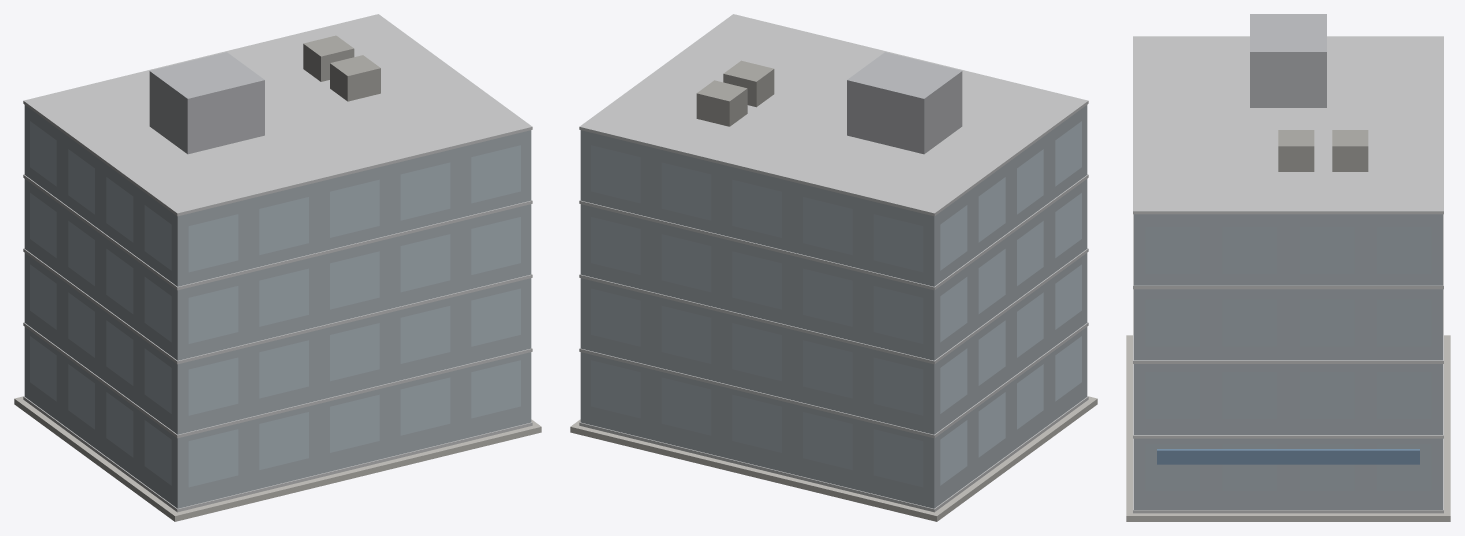
Rendered from 13_office_commerce-07.glb.
3 renders of one model, left to right at view 1: azimuth 30°, elevation 25°; view 2: azimuth 150°, elevation 25°; view 3: azimuth 270°, elevation 25°, orthographic.
Size of the model in its own units: 16.6 by 15.58 by 12.6.
